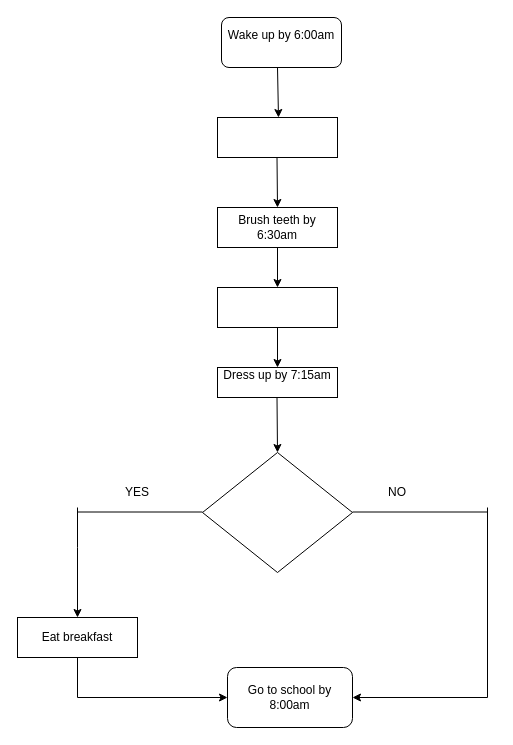
Image size: 513x745. Some labels were removed from this diagram. The shapes that lost their labels are listed below. From the top down, each one's centre as x and y in pixels, then its label:
point 277,137: Pray by 6:15am
point 277,307: Shower by 7:00am
point 277,512: If time < 10 minutes
